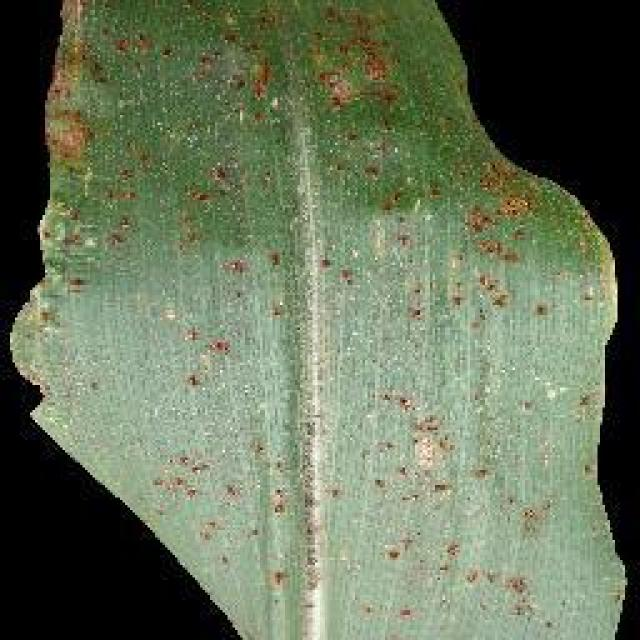Corn Common Rust: (97, 75, 543, 582)
